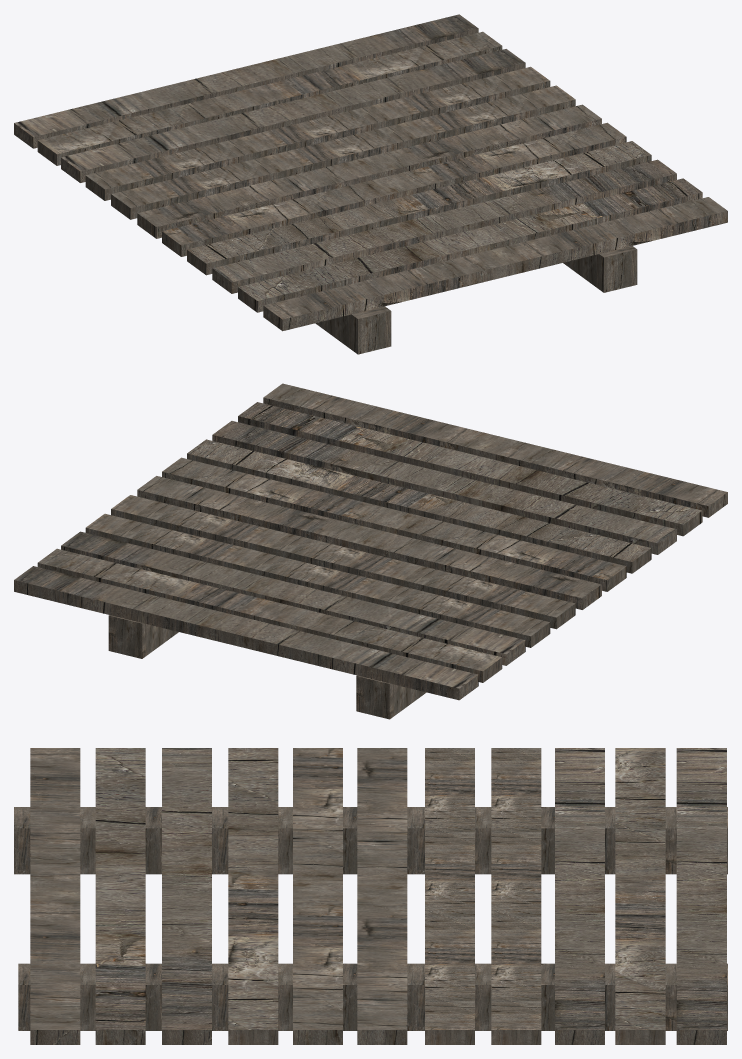
Rendered from blend raftbien.fbx.
3 renders of one model, top to bottom at view 1: azimuth 30°, elevation 25°; view 2: azimuth 150°, elevation 25°; view 3: azimuth 270°, elevation 25°, orthographic. The views are drawn at different scales.
Visible parts, largest first — view 1: piso bien; view 2: piso bien; view 3: piso bien.
Boxes of the visible parts, x1=… form: piso bien: x1=14, y1=14, x2=727, y2=354; piso bien: x1=14, y1=383, x2=727, y2=719; piso bien: x1=14, y1=748, x2=727, y2=1044.
Bounding box in the file's own units: 400 × 40.59 × 428.
Materials: 1 (1 with a texture image).
